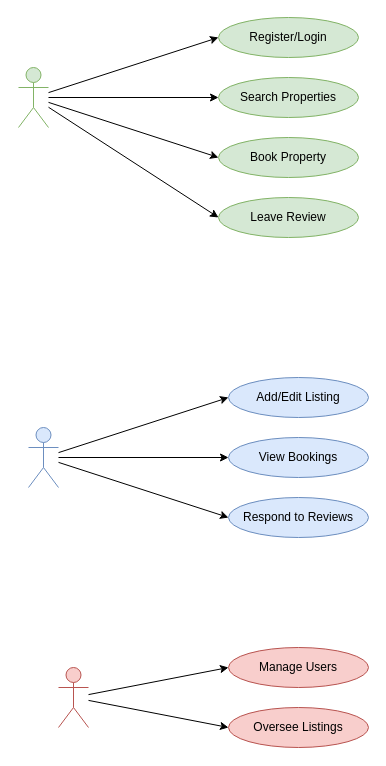
This 386x766 diagram has some shape labels left out. The box of each missing label's shape, as (x1, y1, x2, y2) in pixels:
Admin: (58, 666, 88, 728)
Guest: (18, 66, 48, 128)
Host: (28, 426, 58, 488)
